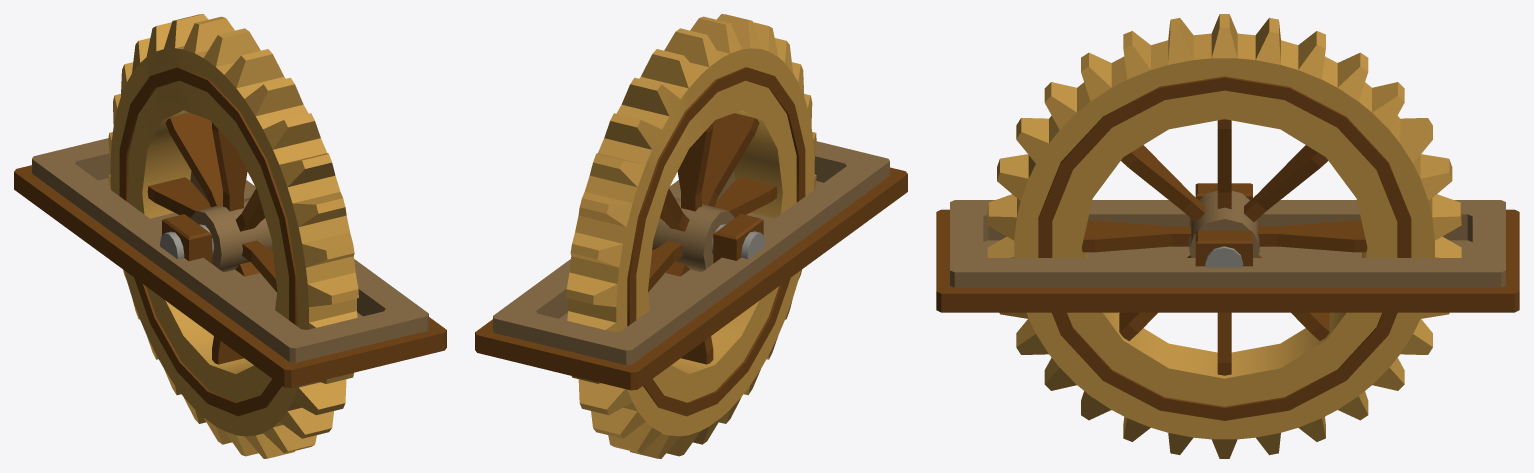
The model's file is OBSTACLE_GEAR.FBX.
3 renders of one model, left to right at view 1: azimuth 30°, elevation 25°; view 2: azimuth 150°, elevation 25°; view 3: azimuth 270°, elevation 25°, orthographic. The views are drawn at different scales.
Parts seen in each view (by area): view 1: GEAR, OBSTACLE BASE GEAR; view 2: GEAR, OBSTACLE BASE GEAR; view 3: GEAR, OBSTACLE BASE GEAR.
Part boxes in pixels (left/top/right/bottom): GEAR: left=108, top=14, right=358, bottom=458; OBSTACLE BASE GEAR: left=14, top=138, right=446, bottom=387; GEAR: left=566, top=14, right=816, bottom=458; OBSTACLE BASE GEAR: left=475, top=141, right=907, bottom=390; GEAR: left=987, top=14, right=1461, bottom=458; OBSTACLE BASE GEAR: left=936, top=183, right=1519, bottom=312.
Size of the model in its own units: 67.6 by 198 by 161.
